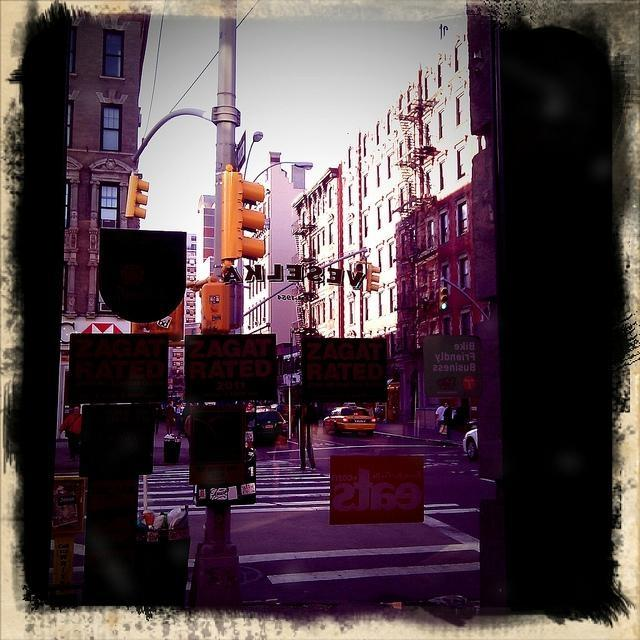car: (254, 407, 292, 455), (323, 403, 376, 436), (463, 428, 479, 462)
